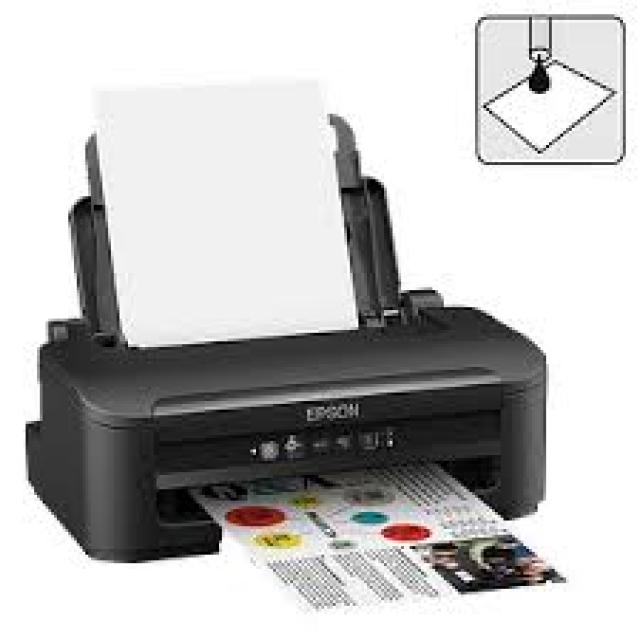printer: (23, 77, 549, 563)
